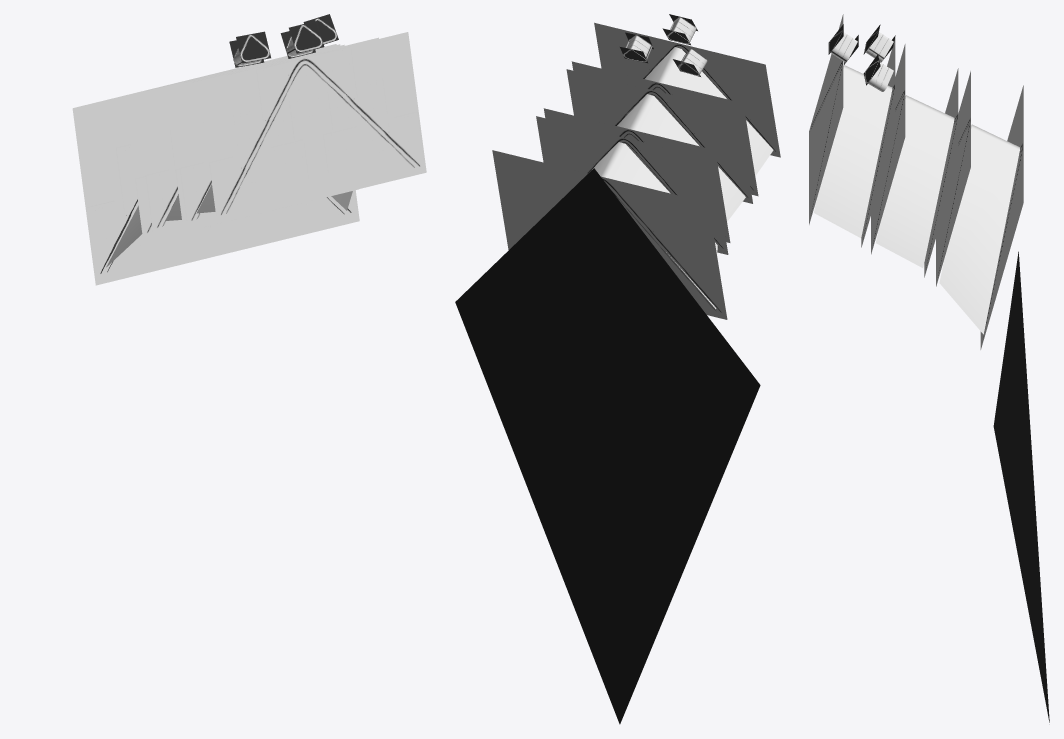
Rendered from rdc_4.dae.
3 renders of one model, left to right at view 1: azimuth 30°, elevation 25°; view 2: azimuth 150°, elevation 25°; view 3: azimuth 270°, elevation 25°, orthographic. The views are drawn at different scales.
Visible parts, largest first — view 1: topgrande (×6), megapattern_top (×2), banchi; view 2: nero, topgrande (×6), banchi (×3); view 3: banchi (×3), topgrande (×6), nero.
Part boxes in pixels (left/top/right/bottom): topgrande (×6): left=72, top=32, right=426, bottom=285; megapattern_top (×2): left=236, top=21, right=324, bottom=63; banchi: left=106, top=191, right=352, bottom=267; nero: left=455, top=168, right=760, bottom=724; topgrande (×6): left=492, top=22, right=780, bottom=319; banchi (×3): left=589, top=47, right=773, bottom=308; banchi (×3): left=814, top=65, right=1020, bottom=334; topgrande (×6): left=809, top=14, right=1023, bottom=349; nero: left=993, top=251, right=1049, bottom=722.
Size of the model in its own units: 525 by 1003 by 307.
Materials: 6 (4 with a texture image).
